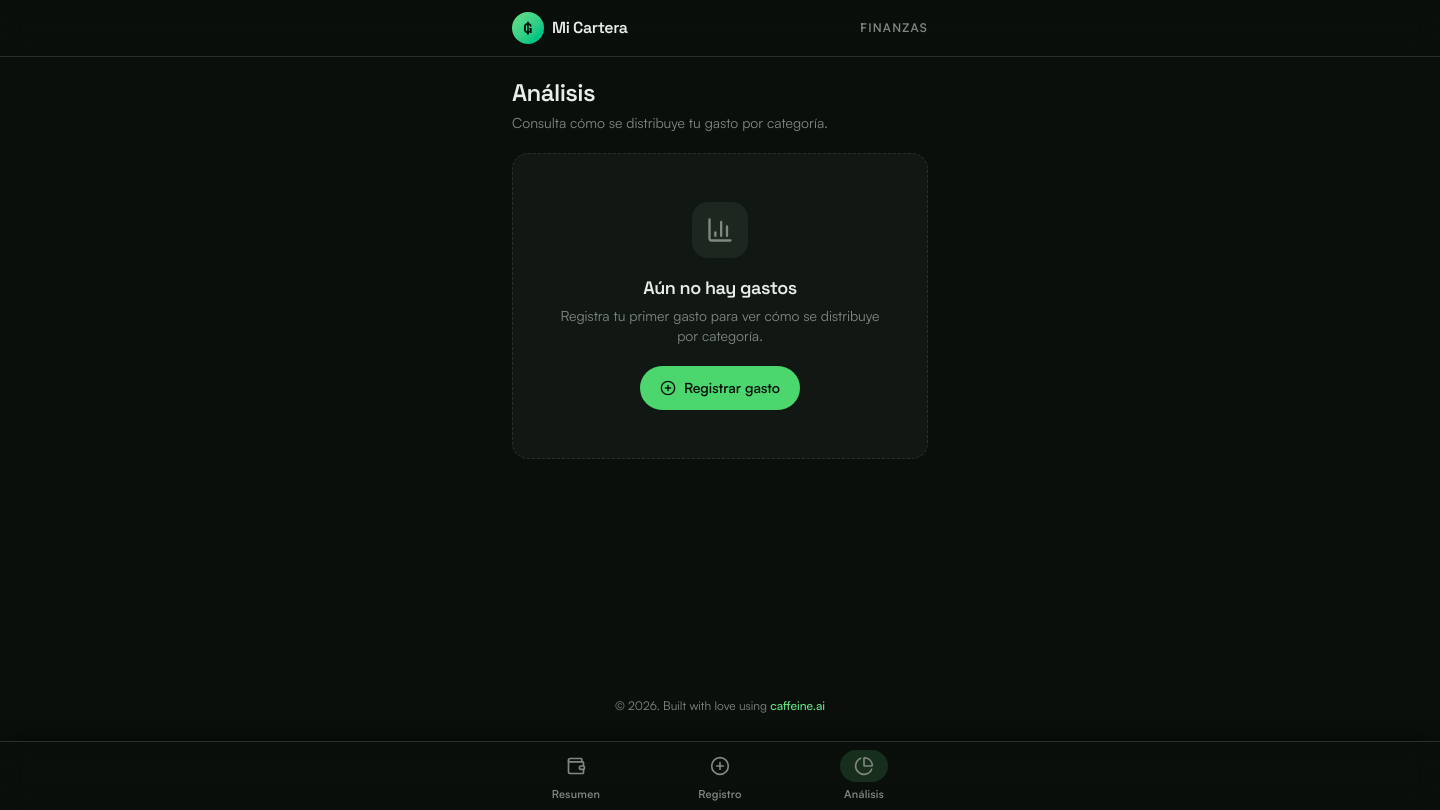
Test: navigation › moves between the three sections from the bottom bar
Click the link with test id "nav.registro" at (720, 778), box [698,756,742,800]
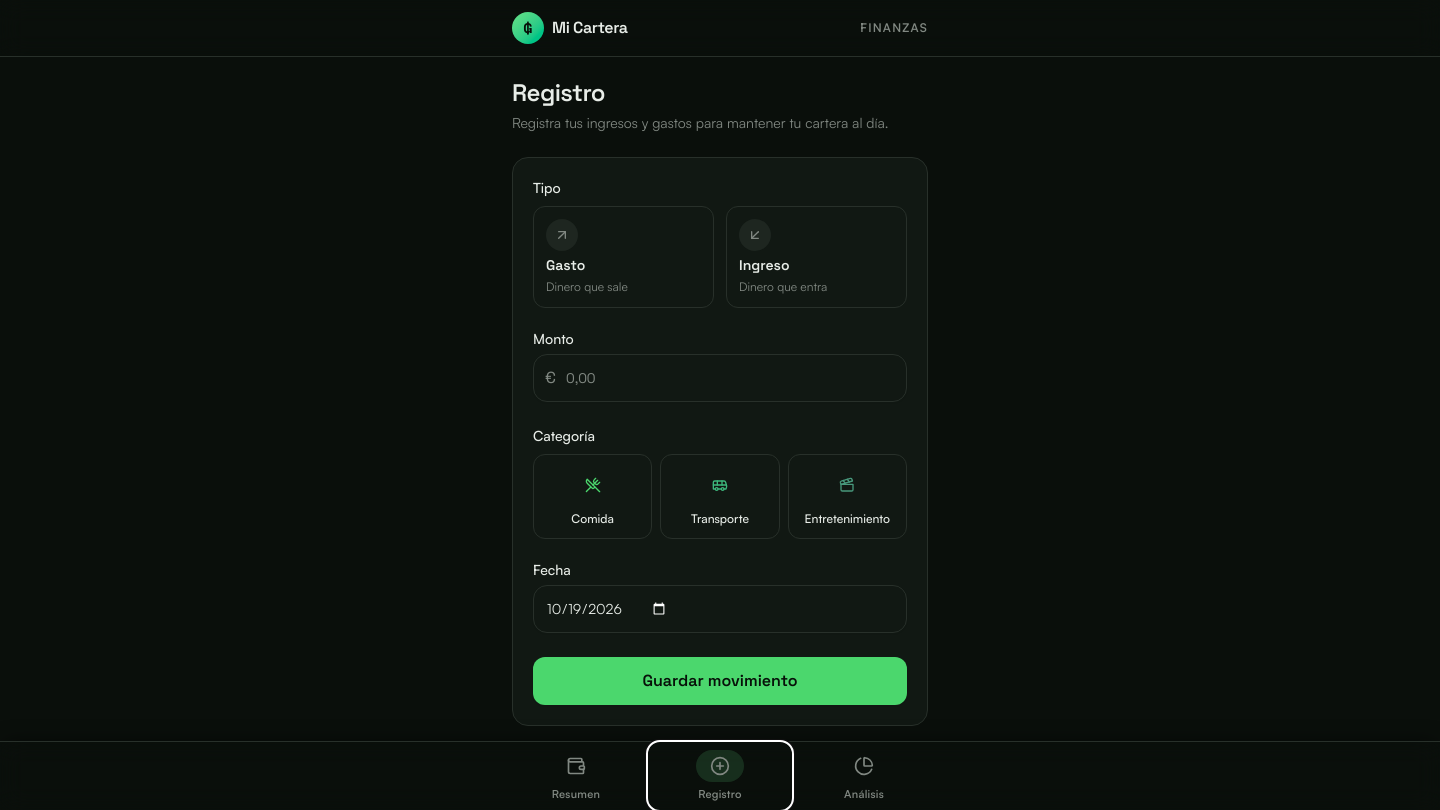
Result: the element with test id "page.registro" is shown at [512,77,928,726]
Click the link with test id "nav.analisis" at (864, 778), box [844,756,884,800]
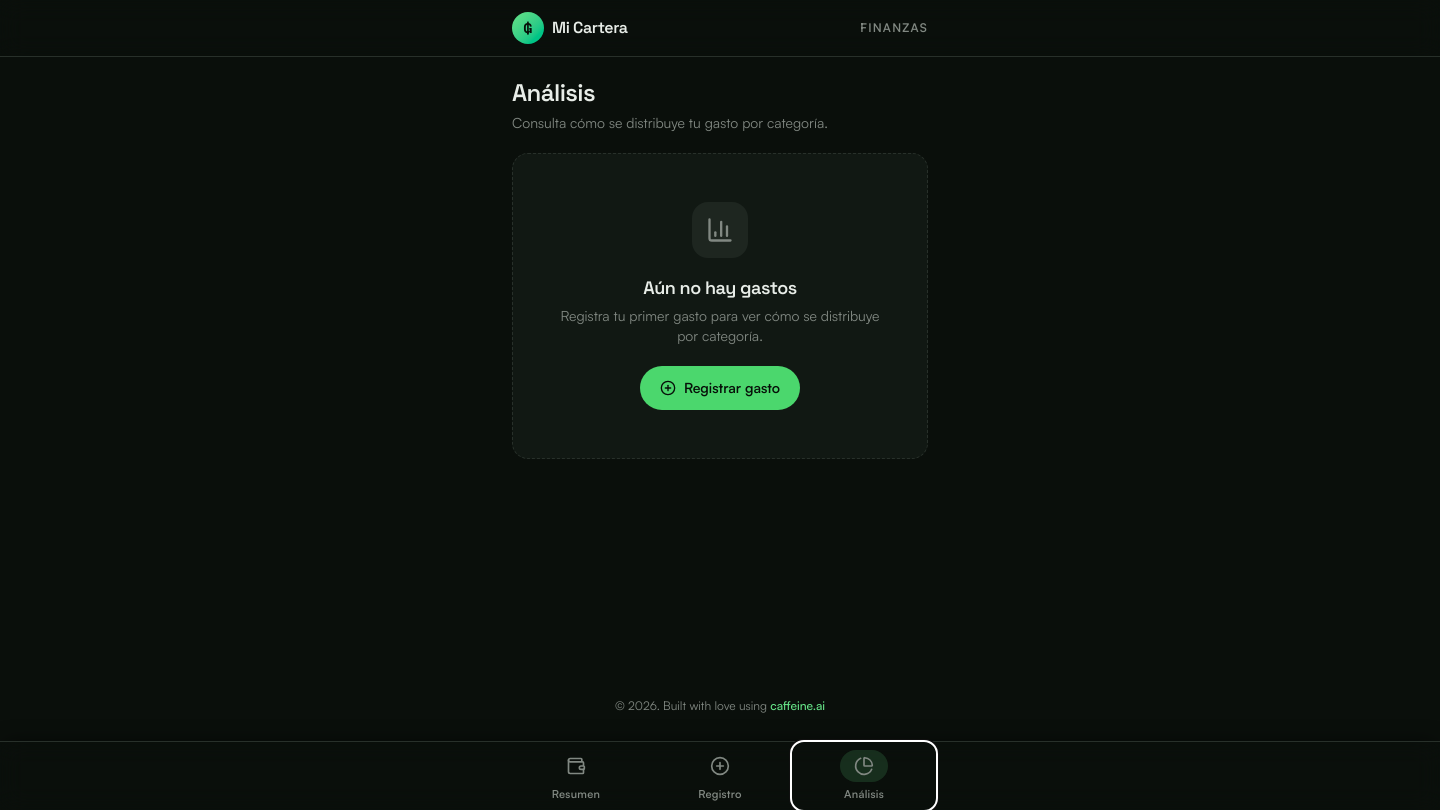
Result: the element with test id "page.analisis" is shown at [512,77,928,459]
Click the link with test id "nav.summary" at (576, 778), box [552,756,600,800]
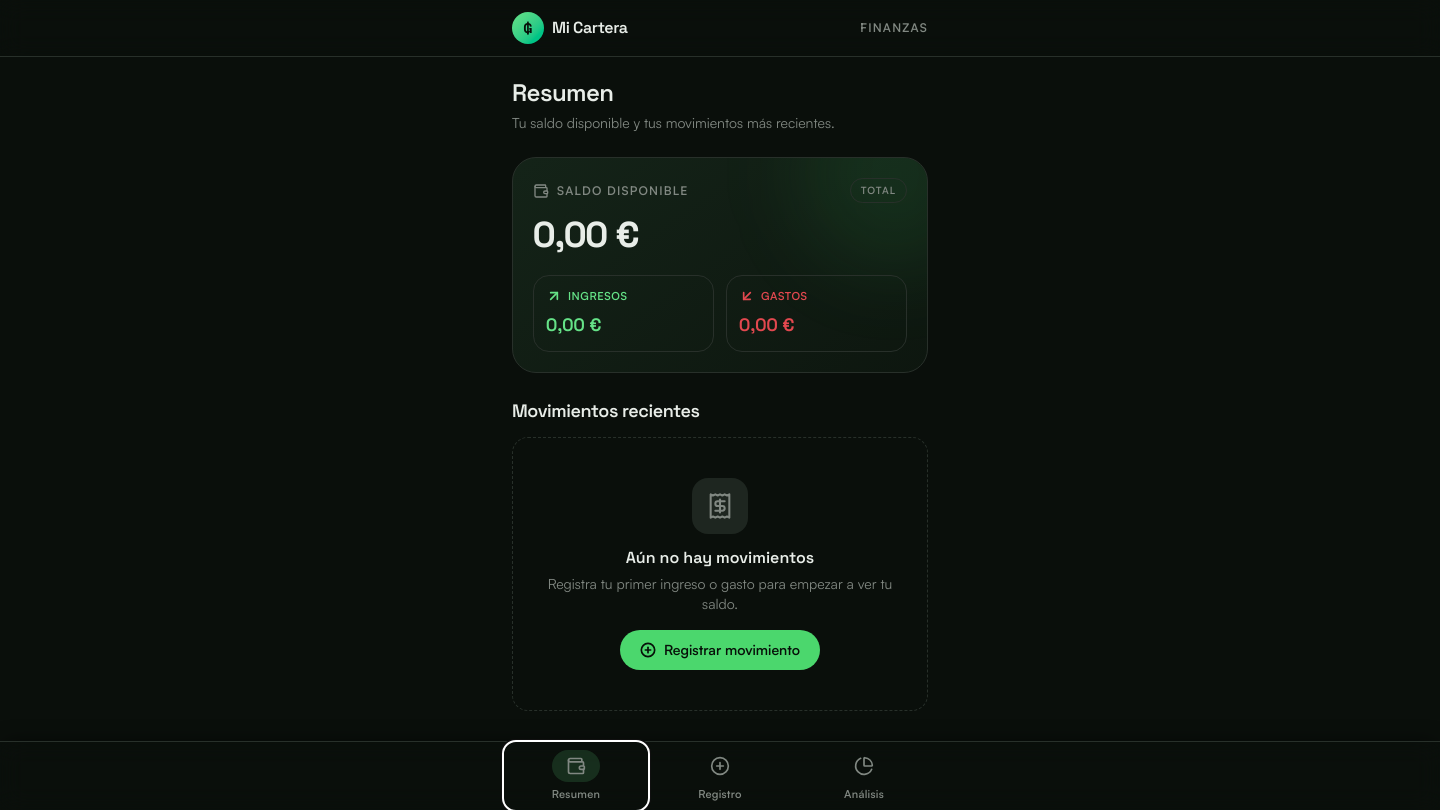
Result: the element with test id "page.resumen" is shown at [512,77,928,710]
